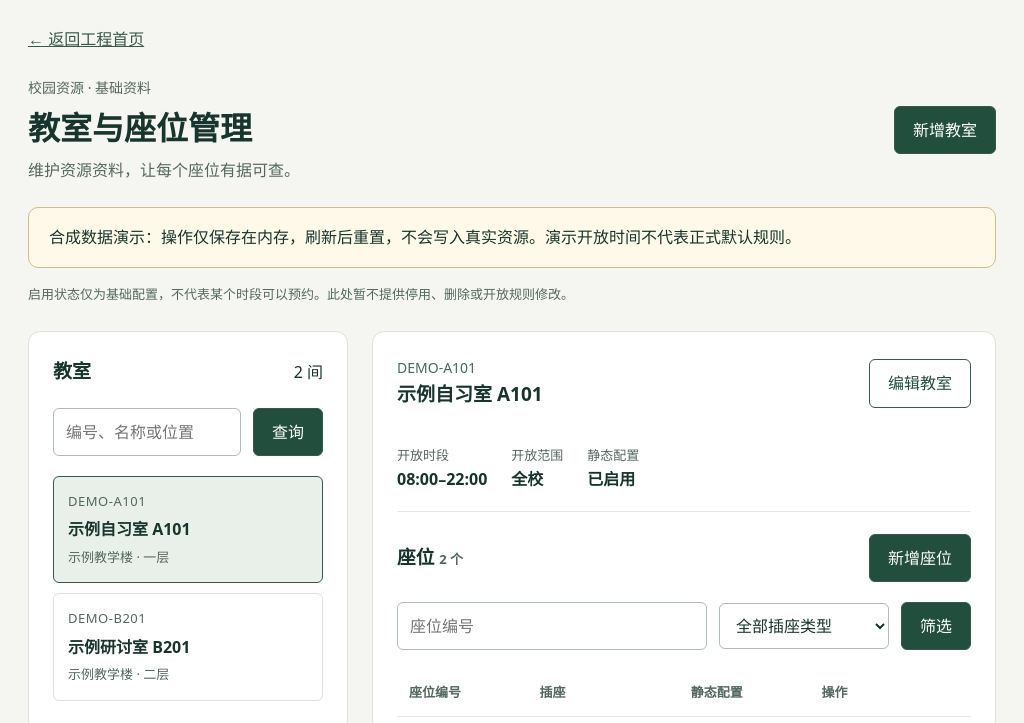
B resource workspace › keeps the room context fixed while editing a seat
Step 1. Click the button "新增座位" → [920, 558], box [869,534,971,582]
(page scrolled)
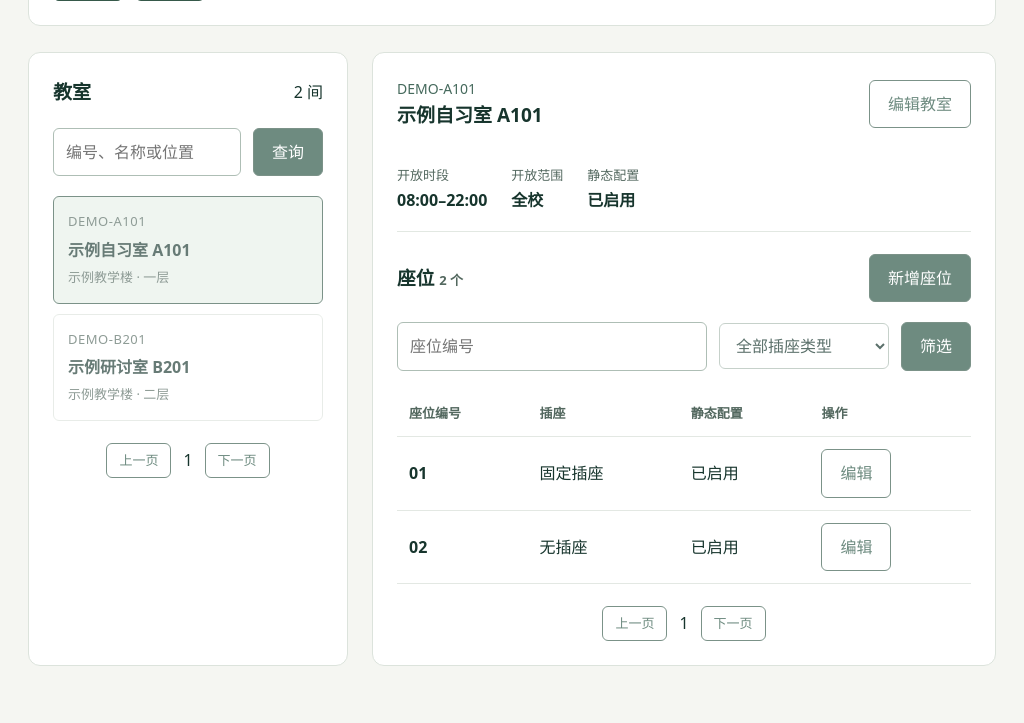
Expected: the field with id "room-search" is disabled, [53,128,241,176]
Expected: the field with id "seat-search" is disabled, [397,322,707,371]
Expected: the dropdown with id "outlet-filter" is disabled, [719,324,889,370]
